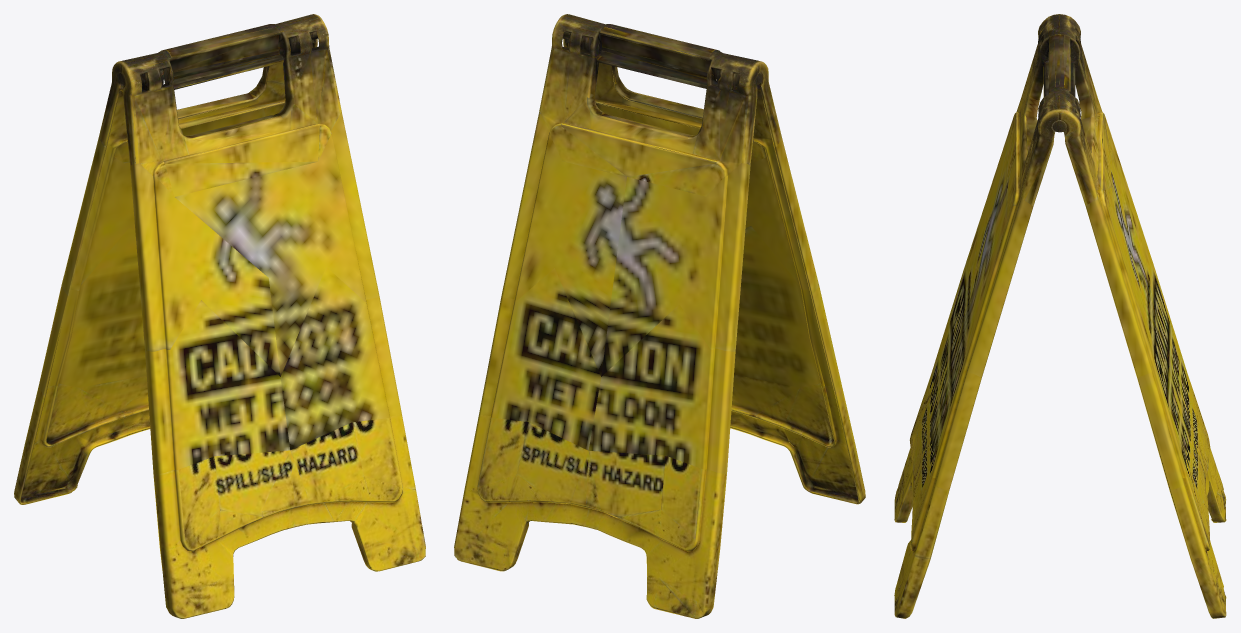
The model's file is prop_wet_floor_sign.glb.
3 renders of one model, left to right at view 1: azimuth 30°, elevation 25°; view 2: azimuth 150°, elevation 25°; view 3: azimuth 270°, elevation 25°, orthographic.
Size of the model in its own units: 0.5142 by 0.9507 by 0.5732.
1 material, 1 textured.
